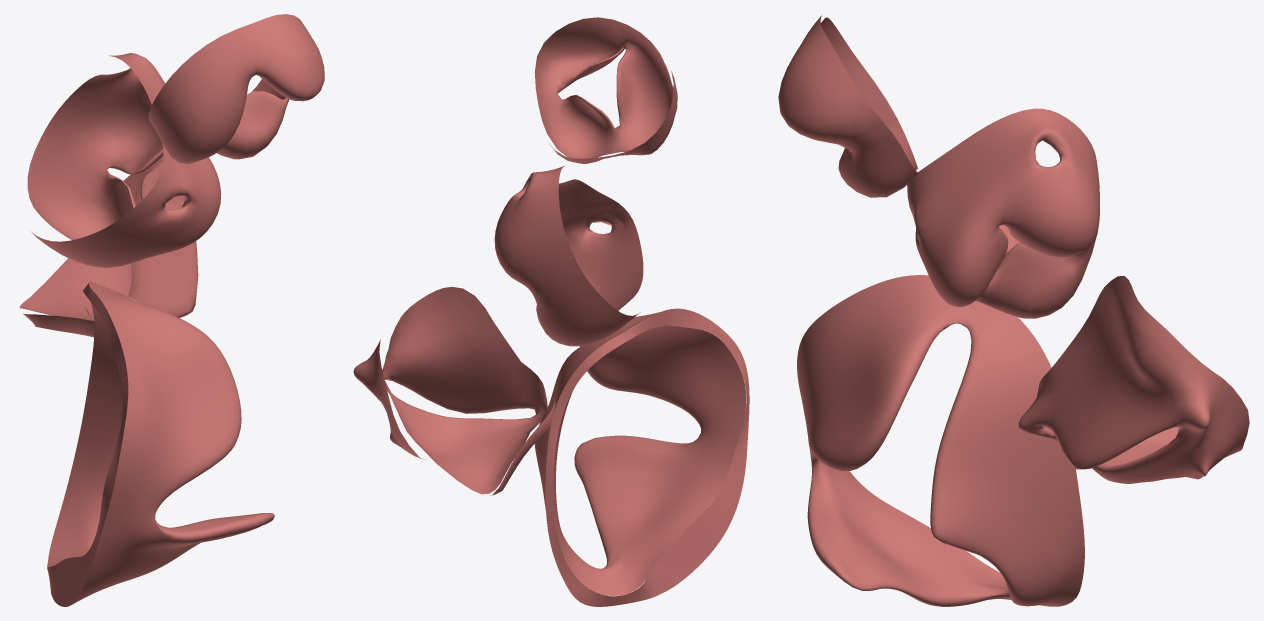
The model's file is hra-female-cardiac-connective-01.glb.
3 views of the same model, side by side, from view 1: azimuth 30°, elevation 25°; view 2: azimuth 150°, elevation 25°; view 3: azimuth 270°, elevation 25° (orthographic). The views are drawn at different scales.
Visible parts, largest first — view 1: VH_F_tricuspid_valve, VH_F_aortic_valve, VH_F_pulmonary_valve, VH_F_mitral_valve; view 2: VH_F_tricuspid_valve, VH_F_mitral_valve, VH_F_aortic_valve, VH_F_pulmonary_valve; view 3: VH_F_tricuspid_valve, VH_F_aortic_valve, VH_F_mitral_valve, VH_F_pulmonary_valve.
Boxes of the visible parts, x1,y1,x2,y2 form: VH_F_tricuspid_valve: [47, 281, 274, 606]; VH_F_aortic_valve: [27, 53, 221, 267]; VH_F_pulmonary_valve: [148, 14, 324, 163]; VH_F_mitral_valve: [19, 156, 198, 337]; VH_F_tricuspid_valve: [534, 308, 749, 606]; VH_F_mitral_valve: [353, 286, 555, 495]; VH_F_aortic_valve: [494, 165, 643, 346]; VH_F_pulmonary_valve: [534, 17, 677, 164]; VH_F_tricuspid_valve: [797, 275, 1084, 606]; VH_F_aortic_valve: [907, 108, 1099, 318]; VH_F_mitral_valve: [1018, 276, 1249, 483]; VH_F_pulmonary_valve: [778, 15, 918, 197].
Size of the model in its own units: 0.0447 by 0.0904 by 0.061.
